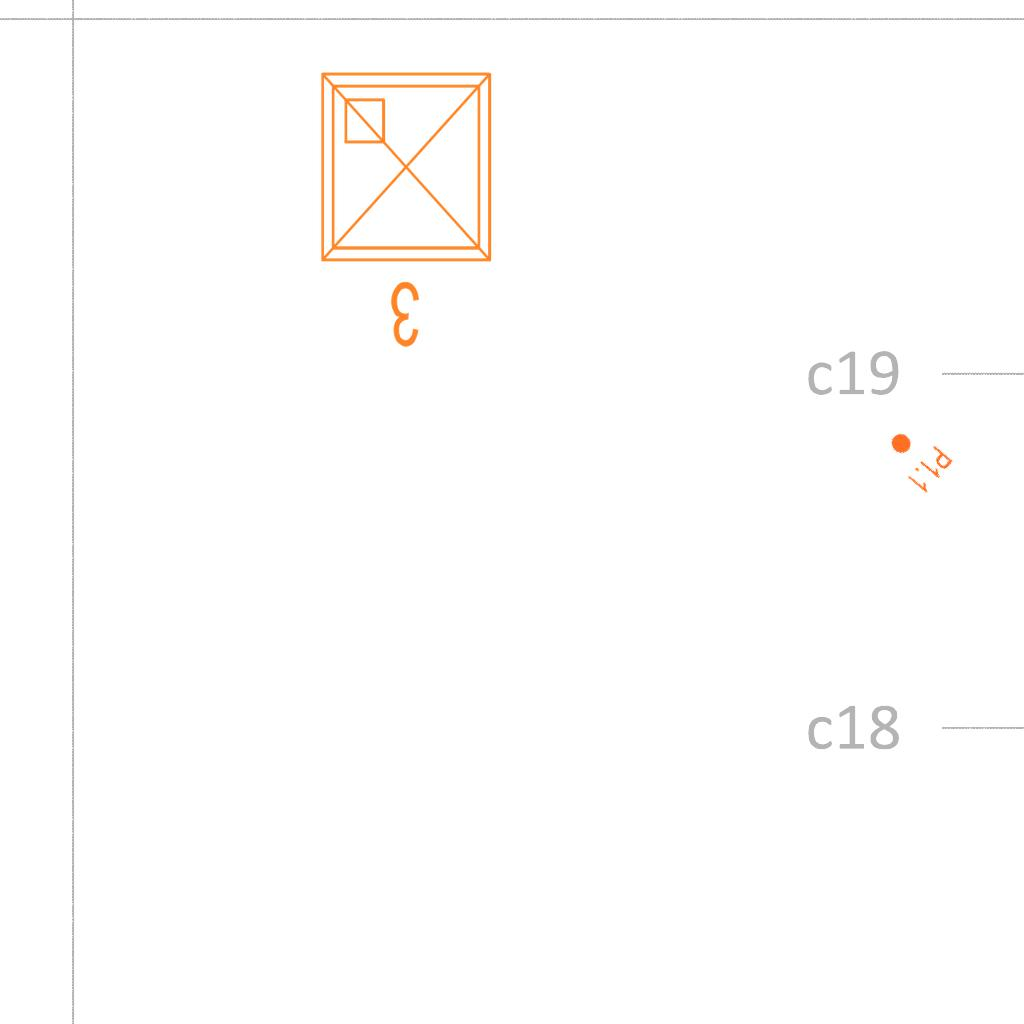Downlight_LED_Einbauleuchten_Flur: (876, 419, 956, 497)
Einbaudownlights_LED_Konferenzraeume: (306, 58, 514, 358)
